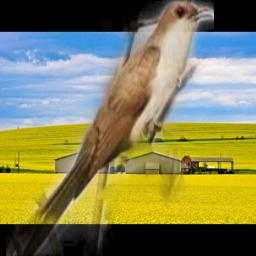Cuckoo: (6, 0, 214, 256)
